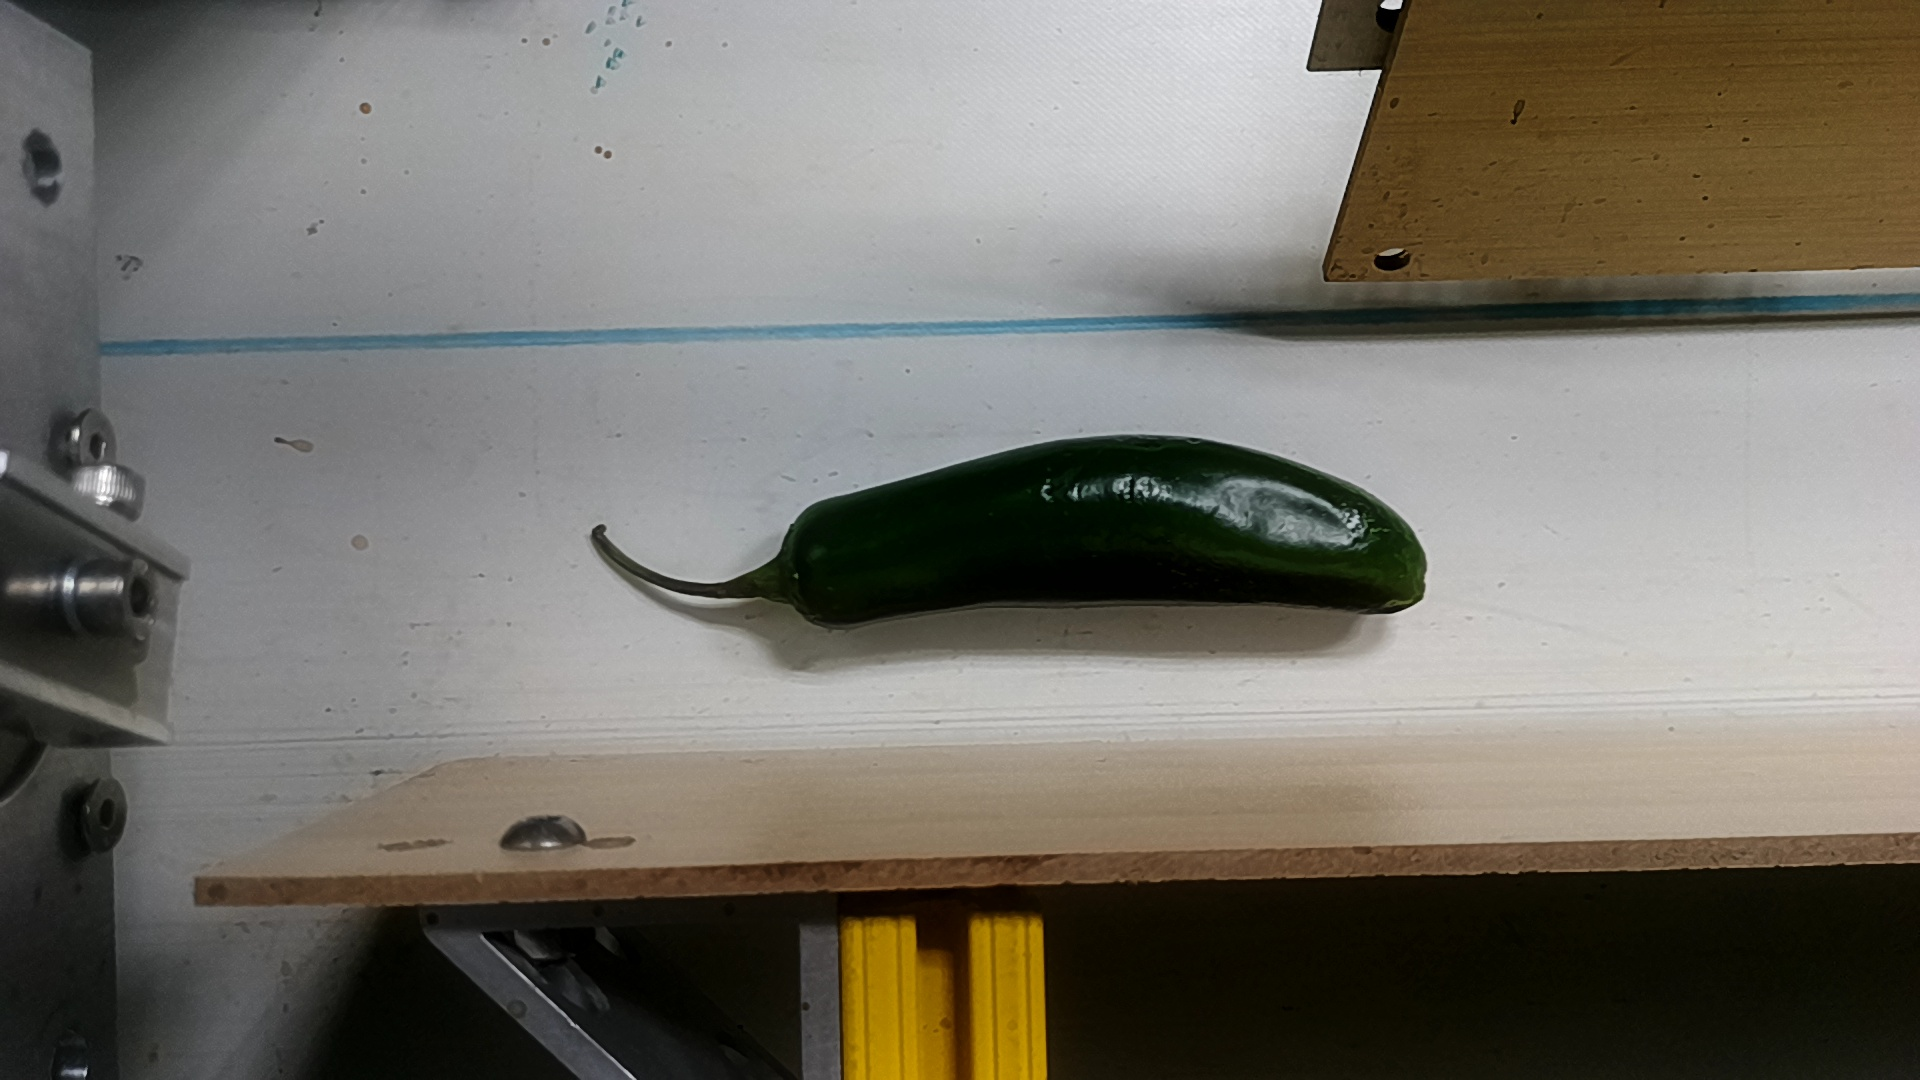Cut Point: (724, 487, 878, 644)
